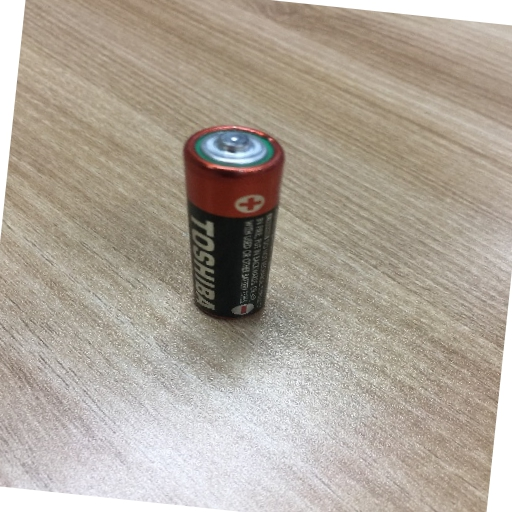Battery_0: (173, 112, 289, 340)
